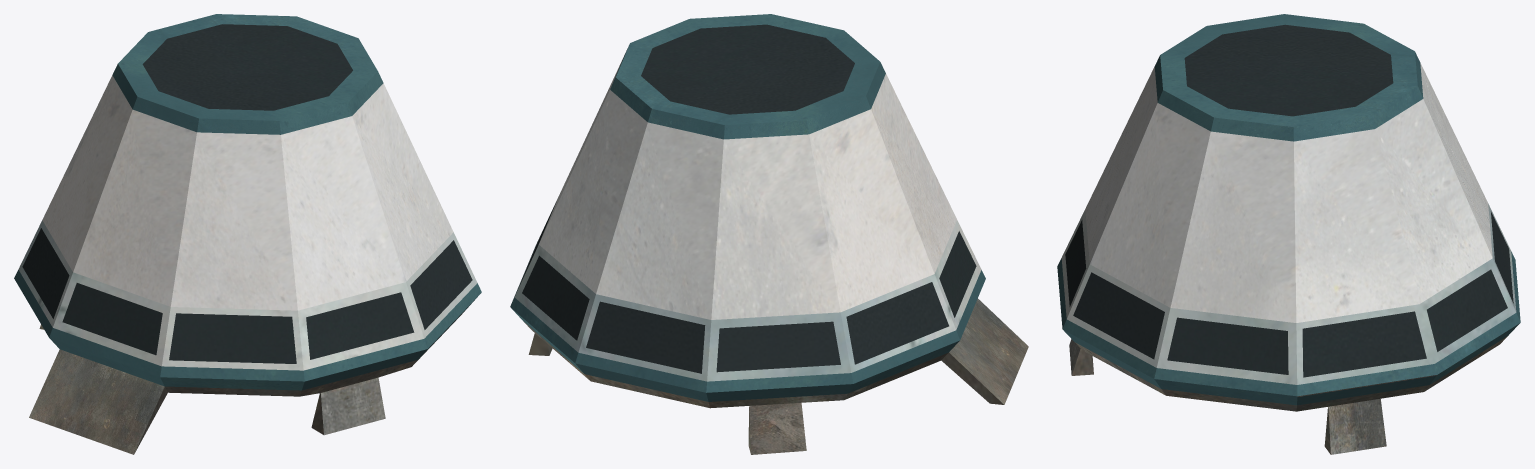
The model's file is maison.fbx.
The picture shows the model from 3 angles, left to right: view 1: azimuth 30°, elevation 25°; view 2: azimuth 150°, elevation 25°; view 3: azimuth 270°, elevation 25°; orthographic projection. The views are drawn at different scales.
Parts seen in each view (by area): view 1: Maison; view 2: Maison; view 3: Maison.
Part boxes in pixels (x1,y1,x2,y2): Maison: (14,14,481,454); Maison: (510,14,1028,454); Maison: (1057,14,1520,454).
Size of the model in its own units: 388 by 241 by 346.
